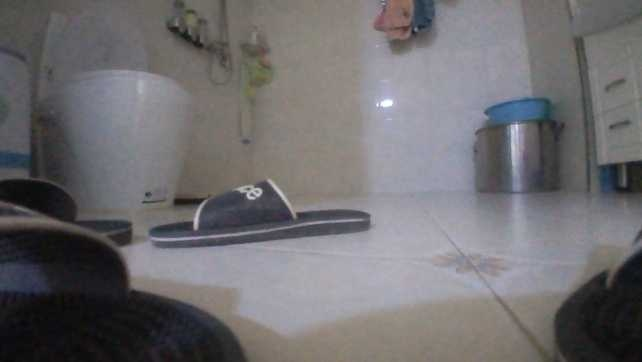slipper: (149, 178, 370, 247)
toilet: (33, 3, 190, 209)
